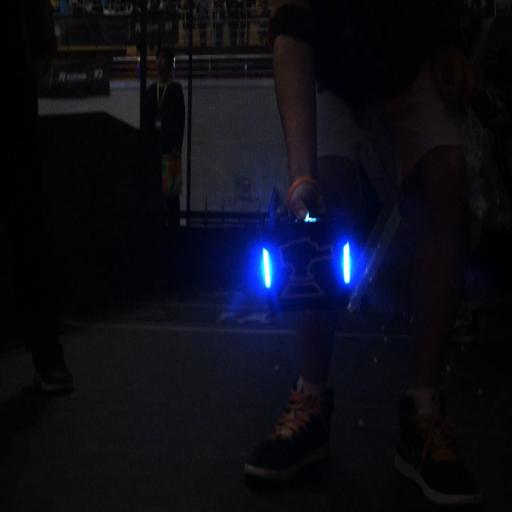target: (260, 224, 354, 310)
